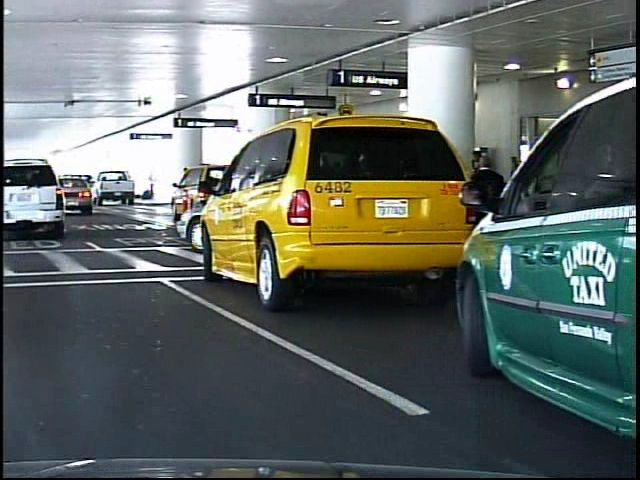person: (463, 149, 502, 282)
